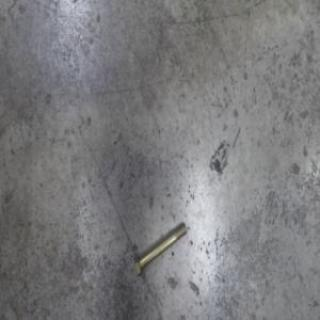Bolttrack_idkeyframe: (133, 218, 187, 280)
